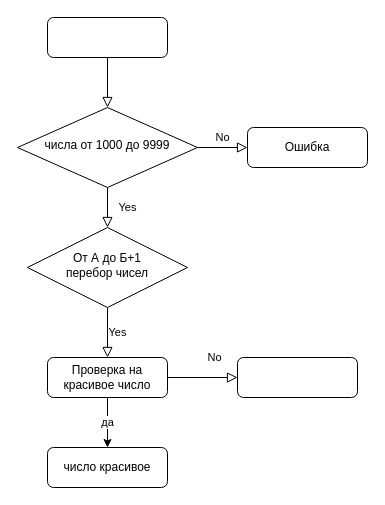
The diagram is 385 pixels wide and 505 high, and some of its shapes have lost their labels. Each missing label, with the box of its shape:
Ввод двух чисел: (46, 16, 168, 58)
Не берем число: (236, 356, 358, 398)
